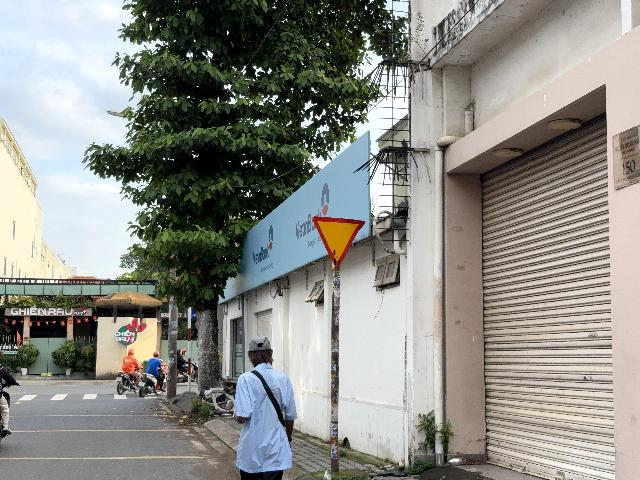giao-nhau-voi-duong-uu-tien: (313, 216, 366, 268)
